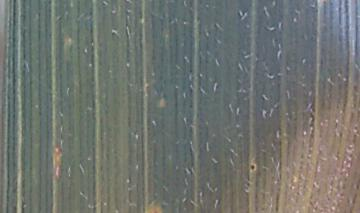tarspot: (249, 161, 257, 172)
